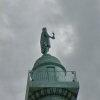Statue: (21, 18, 65, 89)
